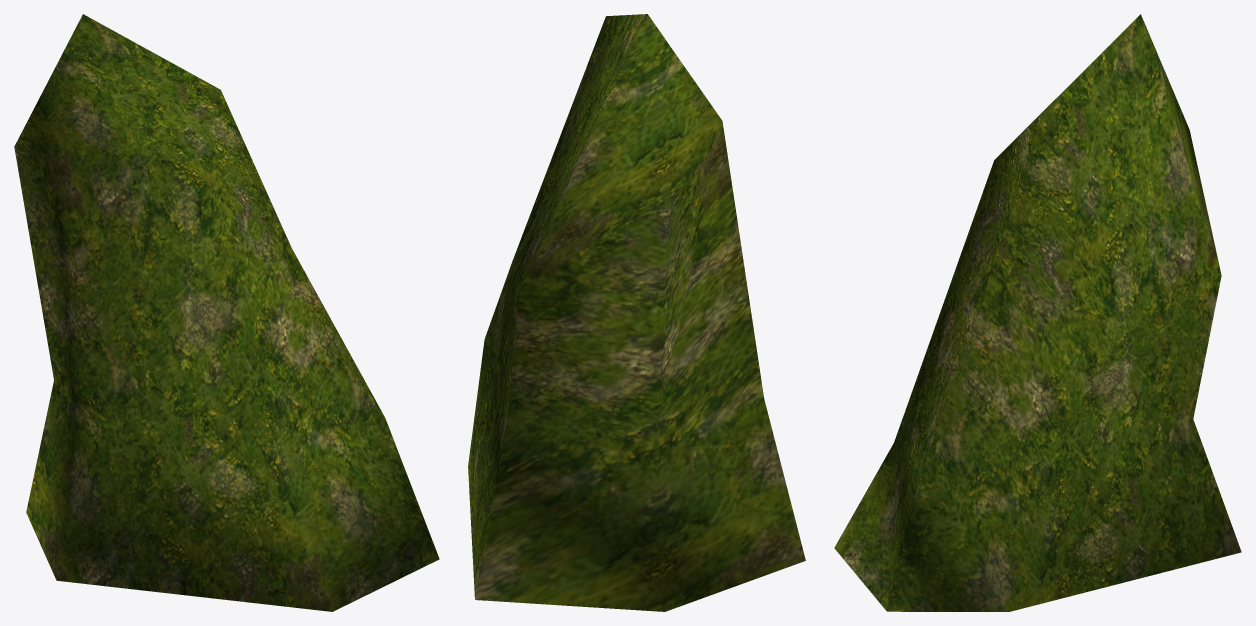
Rendered from INST_OH_ROCK_03.fbx.
3 views of the same model, side by side, from view 1: azimuth 30°, elevation 25°; view 2: azimuth 150°, elevation 25°; view 3: azimuth 270°, elevation 25° (orthographic). The views are drawn at different scales.
Parts seen in each view (by area): view 1: INST_OH_ROCK_03; view 2: INST_OH_ROCK_03; view 3: INST_OH_ROCK_03.
Boxes of the visible parts, bbox=[...] form: INST_OH_ROCK_03: bbox=[14, 14, 439, 611]; INST_OH_ROCK_03: bbox=[468, 14, 805, 611]; INST_OH_ROCK_03: bbox=[834, 14, 1241, 611].
Bounding box in the file's own units: 11702 × 18229 × 13726.
Materials: 1 (1 with a texture image).
